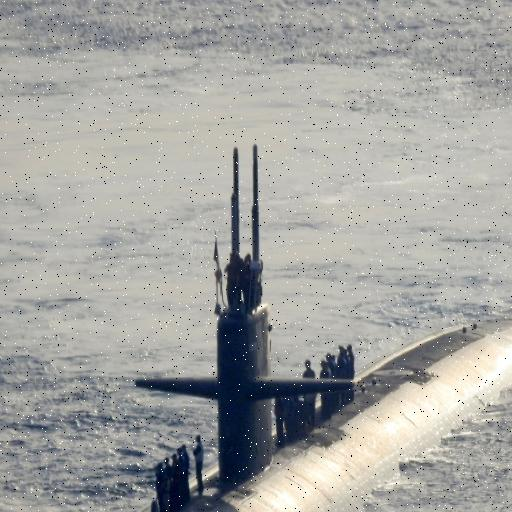submarine: (40, 143, 512, 512)
